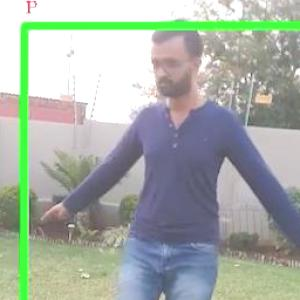land: (49, 33, 299, 299)
